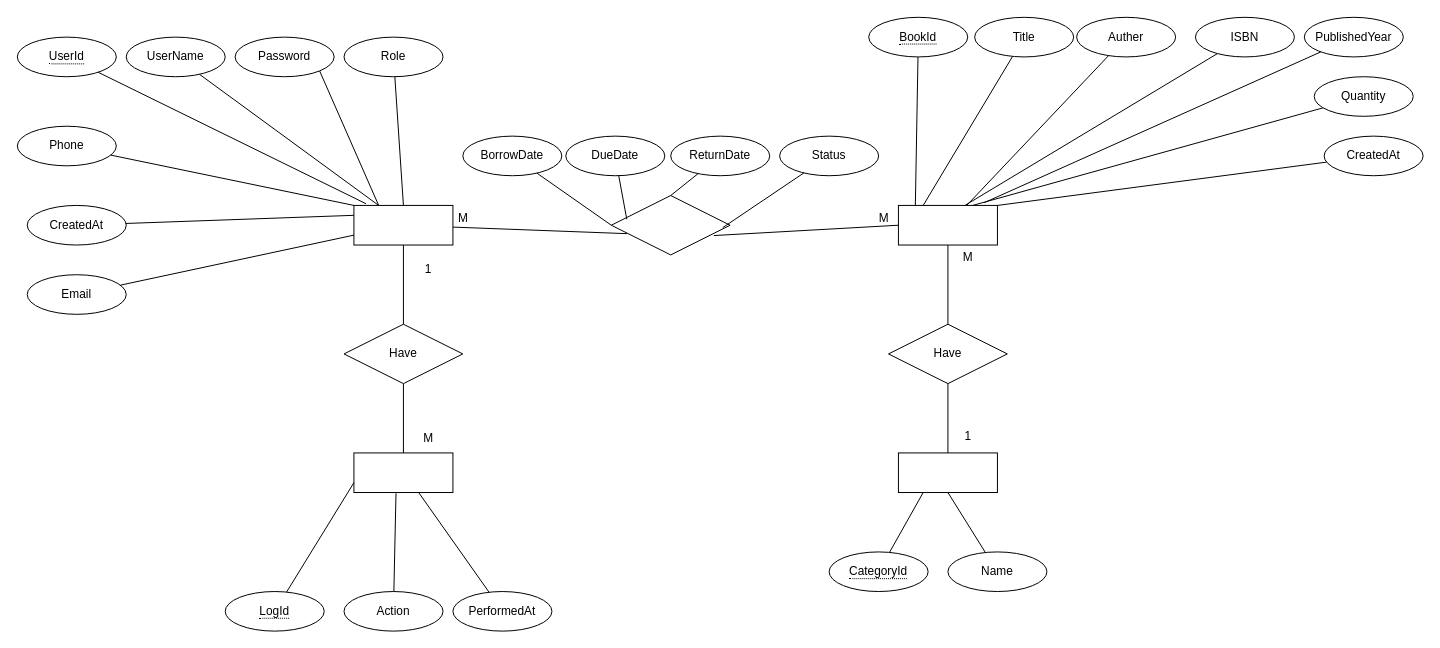
This 1440x648 diagram has some shape labels left out. Here are the shapes that lost their labels. From the top down, the centre of each, then its label:
the point at 403,224: User
the point at 670,225: Borrow
the point at 947,224: Book
the point at 403,472: Log
the point at 947,472: Category
